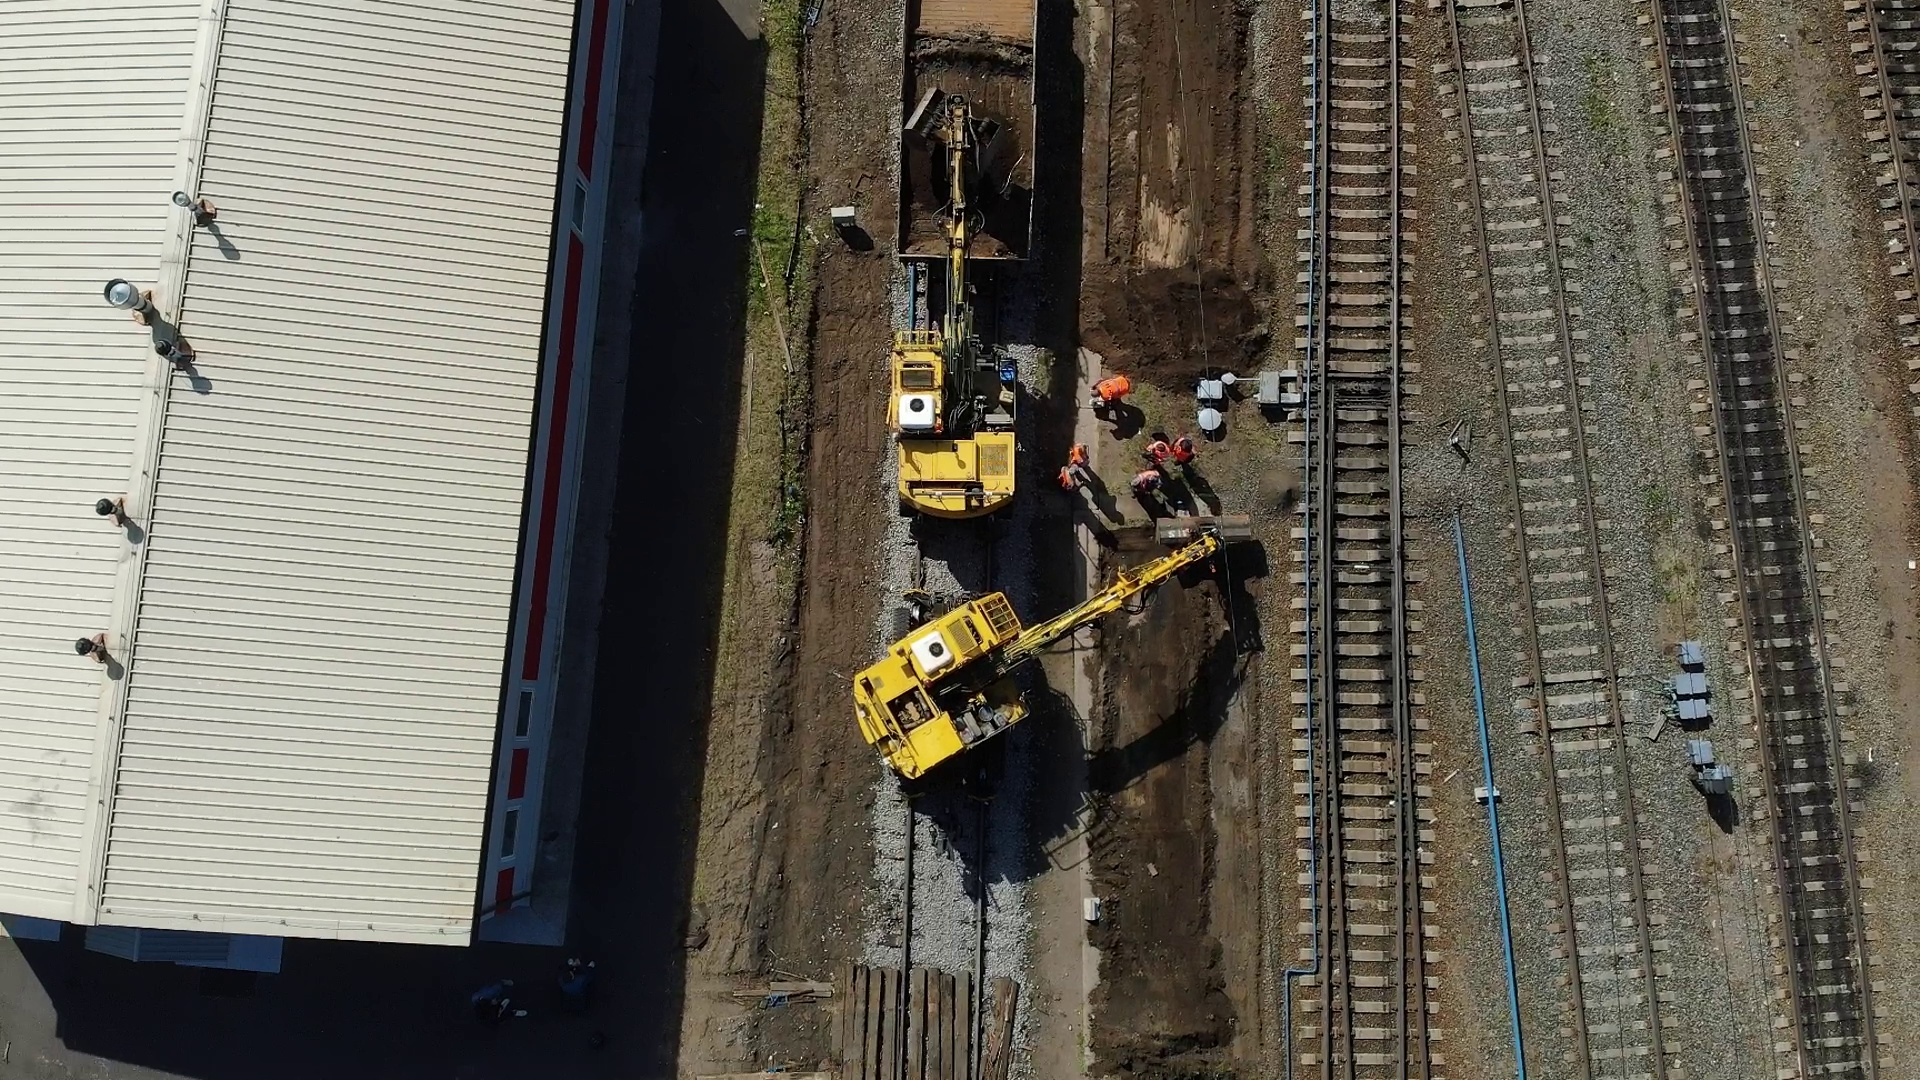kjtv: (856, 588, 1117, 780), (888, 253, 1019, 525)
